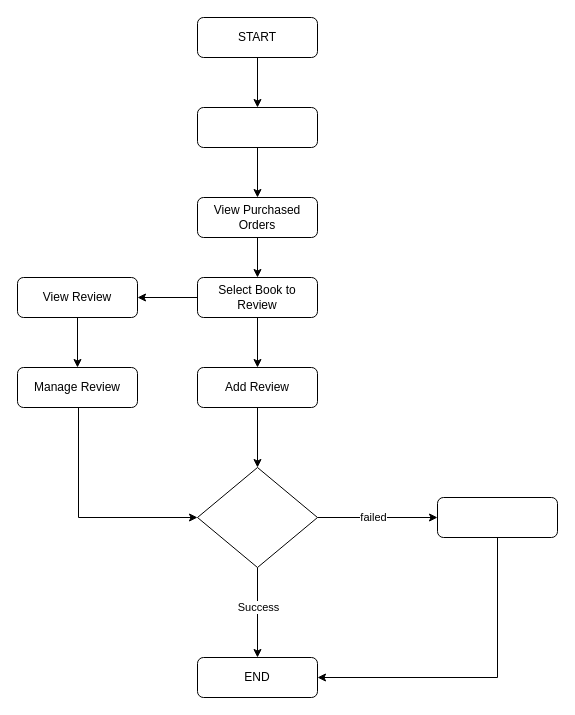
Some shapes in this 575 by 715 pixel diagram are drawn without their labels. Each missing label, with the box of its shape:
Login: (196, 106, 318, 148)
Notify Customer: (436, 496, 558, 538)
Verify by admin: (196, 466, 318, 568)
